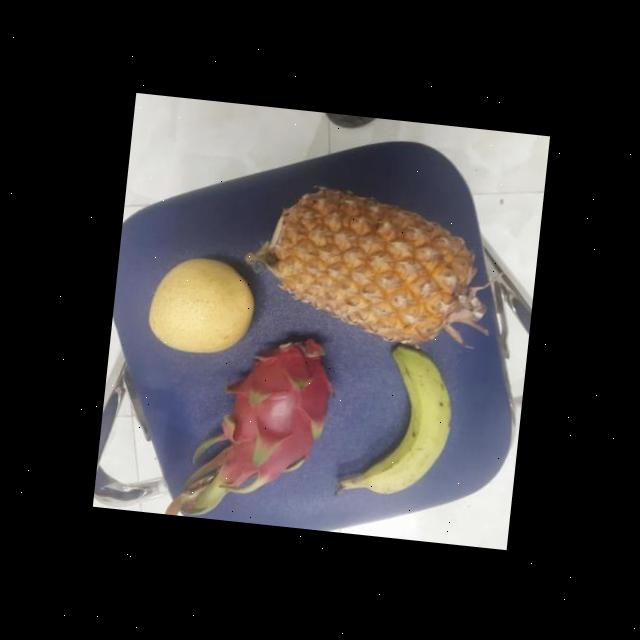banana: (342, 343, 461, 498)
pear: (144, 249, 258, 363)
pineapple: (252, 186, 496, 354)
pitaya: (207, 328, 342, 487)
